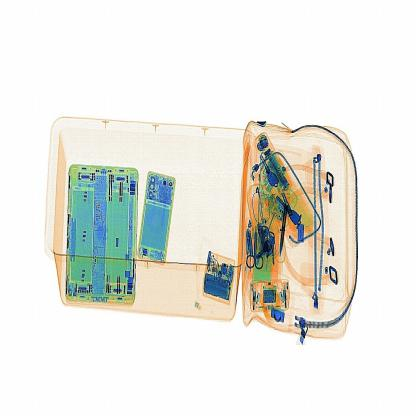gun: (272, 185, 300, 261)
